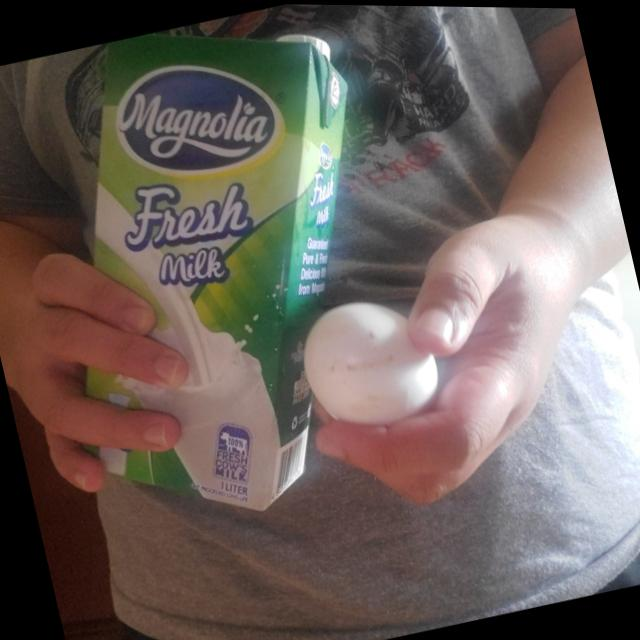egg: (296, 287, 445, 431)
milk: (6, 5, 444, 542)
